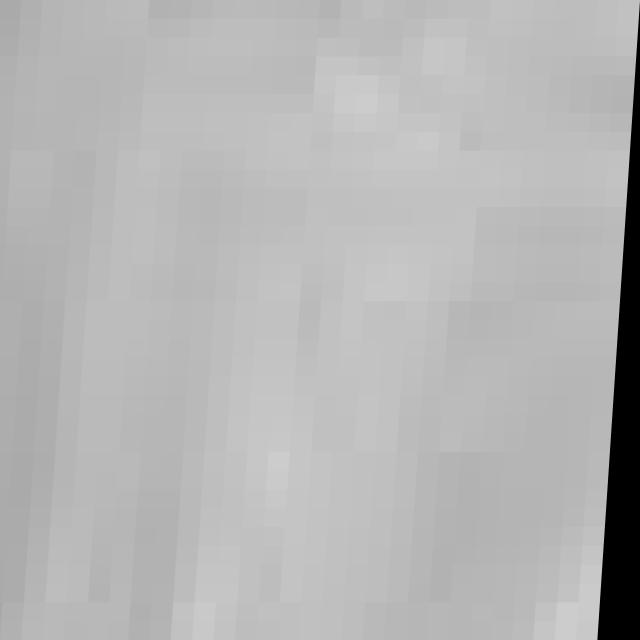fracture: (0, 5, 627, 640)
